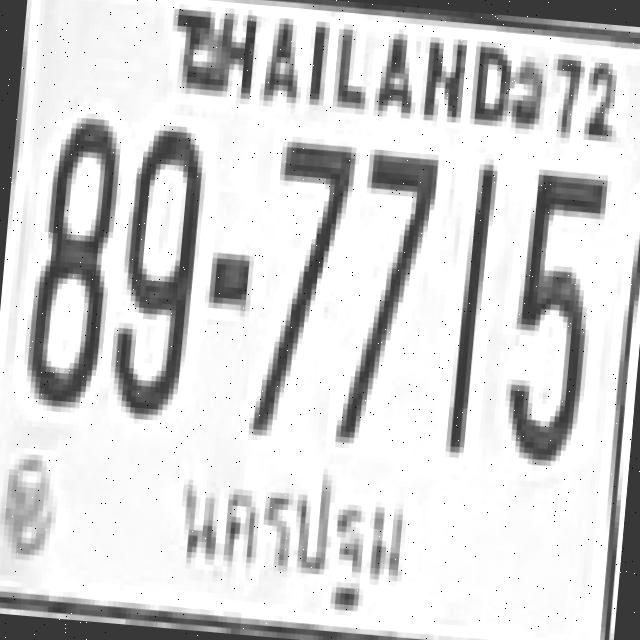0: (121, 120, 205, 303)
5: (511, 168, 603, 336)
7: (265, 134, 354, 318), (352, 146, 436, 340), (267, 136, 354, 302), (356, 148, 434, 320)
8: (26, 110, 120, 404)
9: (107, 133, 204, 417), (106, 161, 202, 417)
NakhonPathom: (162, 455, 414, 612)
